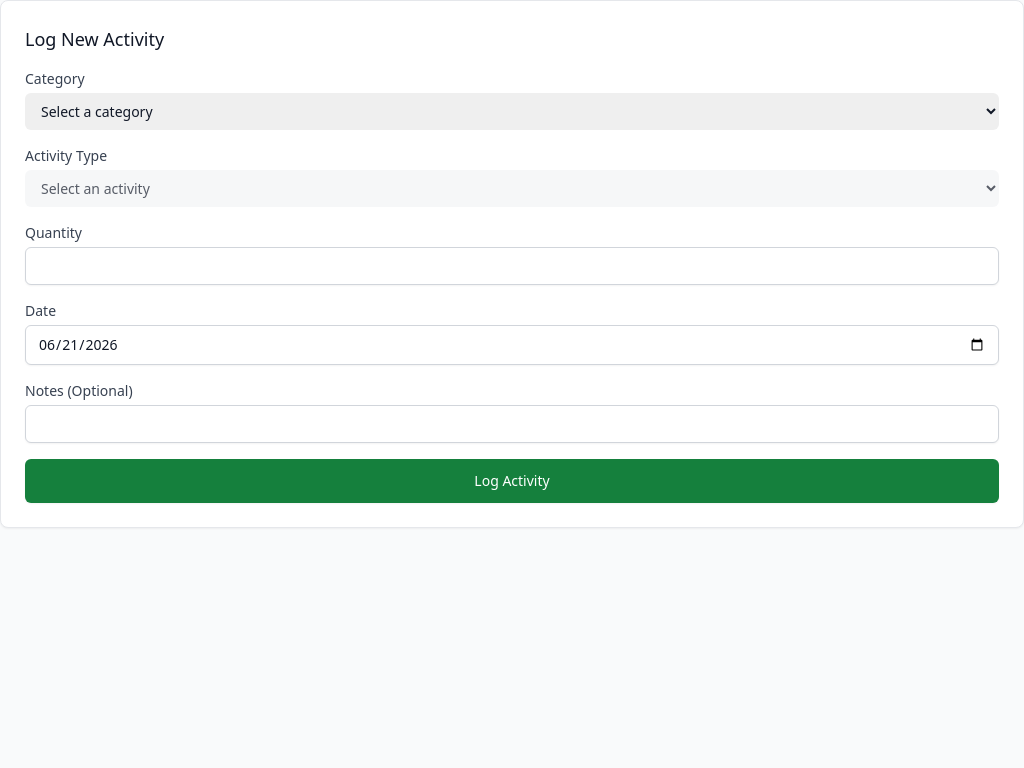
ActivityForm › announces validation errors without submitting
Click the button "Log Activity" at (512, 481), box [25,459,999,503]
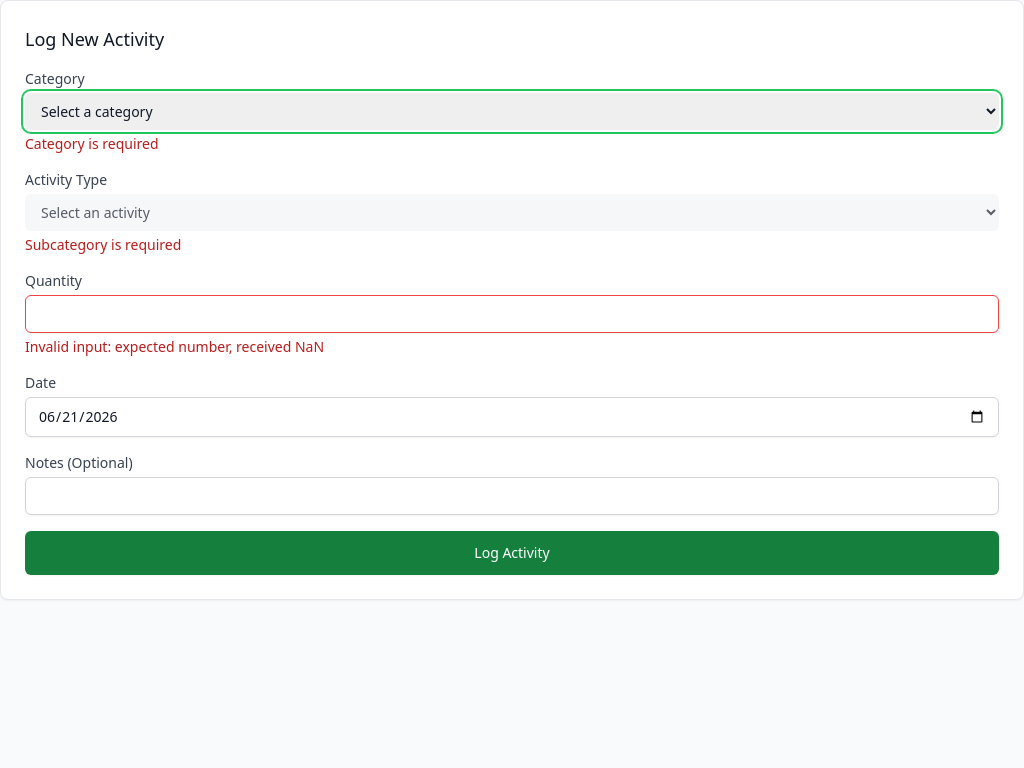
Result: the text "Category is required" is shown at [25,134,158,153]
